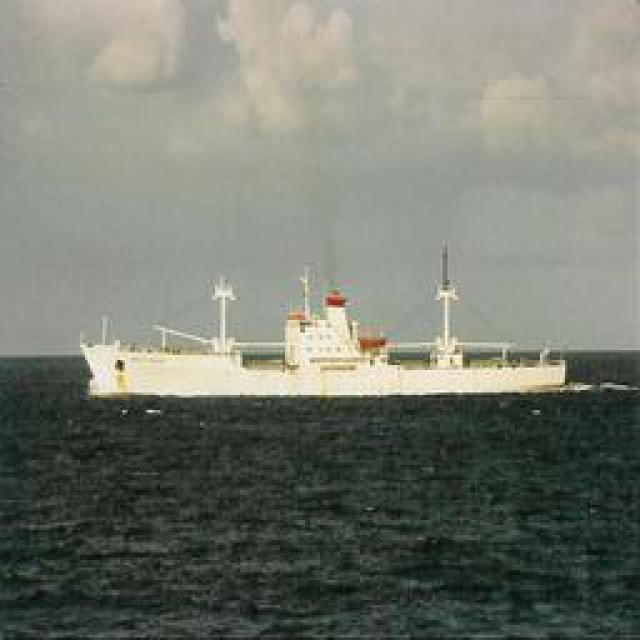Ship: (64, 255, 587, 413)
